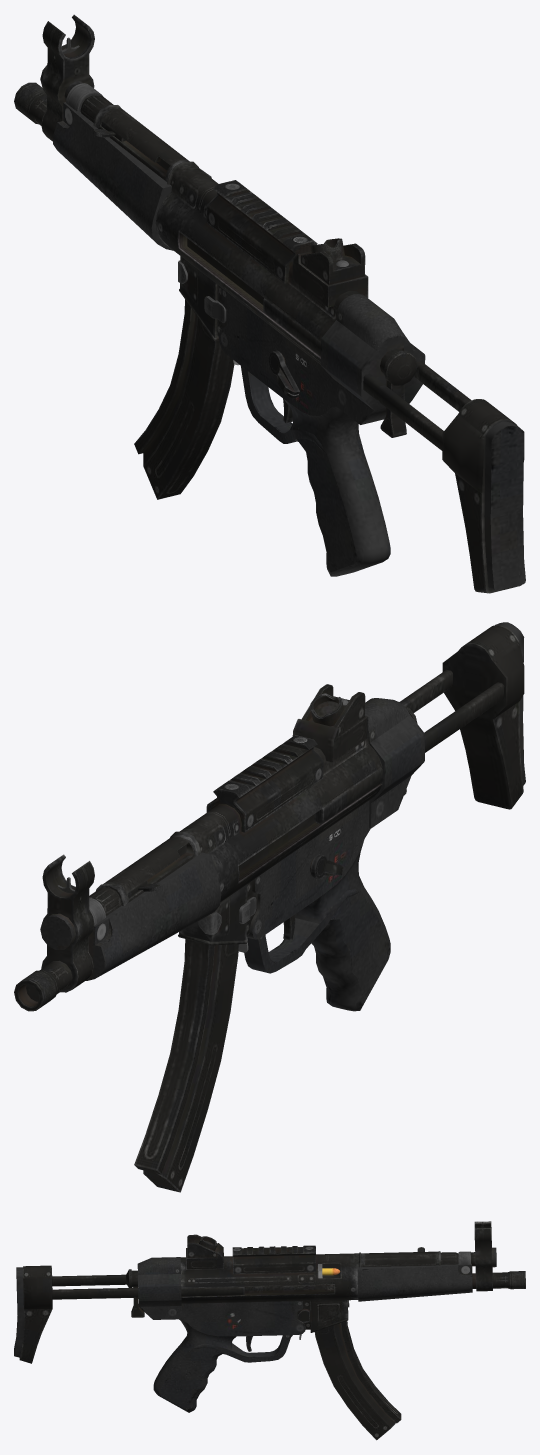
The model's file is smg_9.glb.
3 views of the same model, one above another, from view 1: azimuth 30°, elevation 25°; view 2: azimuth 150°, elevation 25°; view 3: azimuth 270°, elevation 25° (orthographic). The views are drawn at different scales.
Visible parts, largest first — view 1: body, mag; view 2: body, mag; view 3: body, mag.
Part boxes in pixels (x1=…): body: x1=14, y1=14, x2=525, y2=593; mag: x1=134, y1=295, x2=234, y2=499; body: x1=14, y1=622, x2=525, y2=1011; mag: x1=134, y1=940, x2=247, y2=1192; body: x1=14, y1=1221, x2=525, y2=1412; mag: x1=310, y1=1320, x2=401, y2=1440.
Size of the model in its own units: 0.0567 by 0.3117 by 0.68.
Materials: 1 (1 with a texture image).
